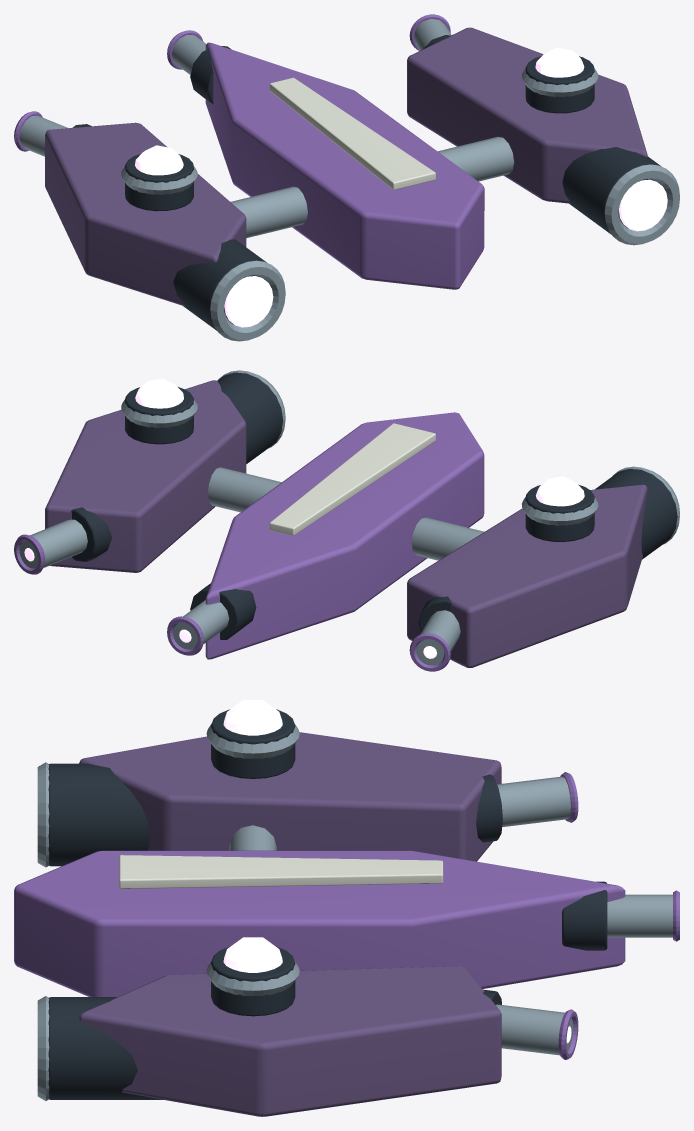
Rendered from compositeEnemy_triade.glb.
The picture shows the model from 3 angles, top to bottom: view 1: azimuth 30°, elevation 25°; view 2: azimuth 150°, elevation 25°; view 3: azimuth 270°, elevation 25°; orthographic projection. The views are drawn at different scales.
Parts seen in each view (by area): view 1: compositeEnemy | TRIADE | secondary, compositeEnemy | TRIADE | armor, compositeEnemy | Titanium, compositeEnemy | Graphite chassis, compositeEnemy | TRIADE | energy, compositeEnemy | Ivory identification; view 2: compositeEnemy | TRIADE | secondary, compositeEnemy | TRIADE | armor, compositeEnemy | Graphite chassis, compositeEnemy | Titanium, compositeEnemy | Ivory identification, compositeEnemy | TRIADE | energy; view 3: compositeEnemy | TRIADE | secondary, compositeEnemy | TRIADE | armor, compositeEnemy | Graphite chassis, compositeEnemy | Titanium, compositeEnemy | Ivory identification, compositeEnemy | TRIADE | energy.
Boxes of the visible parts, bbox=[...] form: compositeEnemy | TRIADE | secondary: bbox=[45, 27, 647, 306]; compositeEnemy | TRIADE | armor: bbox=[14, 14, 484, 289]; compositeEnemy | Titanium: bbox=[19, 18, 679, 341]; compositeEnemy | Graphite chassis: bbox=[72, 35, 661, 330]; compositeEnemy | TRIADE | energy: bbox=[135, 47, 667, 327]; compositeEnemy | Ivory identification: bbox=[269, 77, 435, 189]; compositeEnemy | TRIADE | secondary: bbox=[45, 380, 647, 667]; compositeEnemy | TRIADE | armor: bbox=[14, 412, 484, 671]; compositeEnemy | Graphite chassis: bbox=[71, 372, 677, 639]; compositeEnemy | Titanium: bbox=[19, 370, 679, 665]; compositeEnemy | Ivory identification: bbox=[269, 423, 435, 535]; compositeEnemy | TRIADE | energy: bbox=[24, 378, 584, 658]; compositeEnemy | TRIADE | secondary: bbox=[79, 732, 501, 1116]; compositeEnemy | TRIADE | armor: bbox=[14, 772, 679, 1059]; compositeEnemy | Graphite chassis: bbox=[48, 709, 607, 1099]; compositeEnemy | Titanium: bbox=[37, 724, 672, 1100]; compositeEnemy | Ivory identification: bbox=[119, 855, 443, 888]; compositeEnemy | TRIADE | energy: bbox=[223, 700, 571, 1043].
Size of the model in its own units: 1.75 by 0.407 by 1.54.
